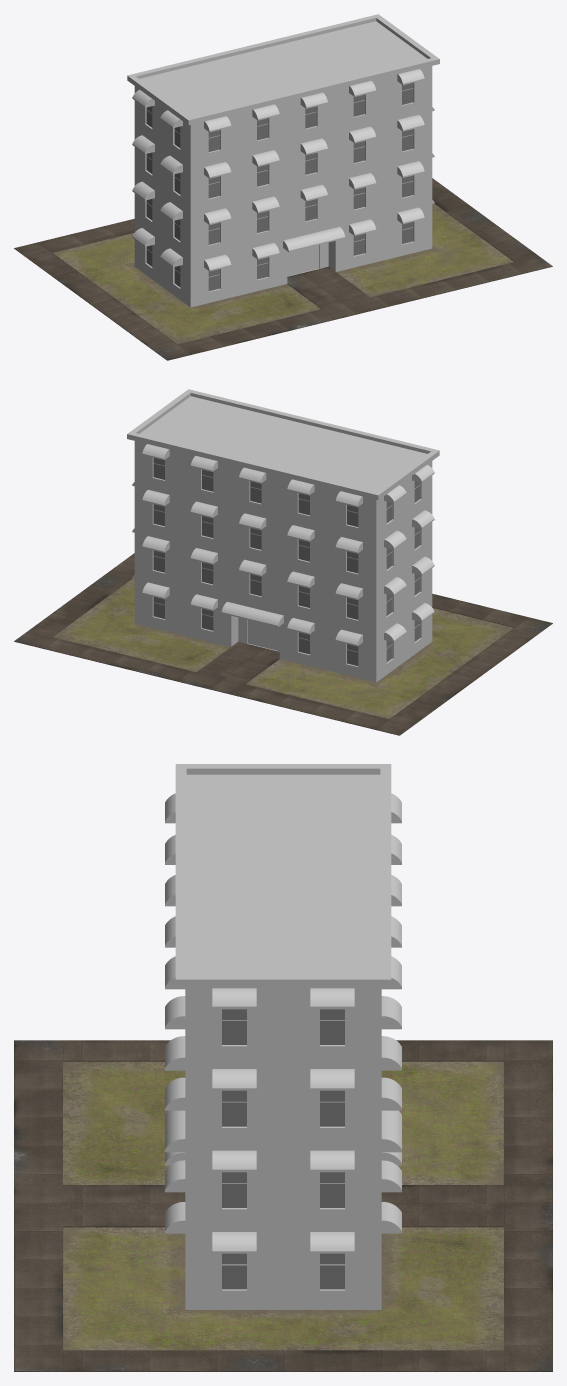
Rendered from build06.dae.
3 renders of one model, top to bottom at view 1: azimuth 30°, elevation 25°; view 2: azimuth 150°, elevation 25°; view 3: azimuth 270°, elevation 25°, orthographic. The views are drawn at different scales.
Visible parts, largest first — view 1: group_93, group_130, group_47, group_111, group_60, group_86; view 2: group_45, group_130, group_47, group_111, group_12, group_38; view 3: group_130, group_47, group_129, Component_1 (×8), group_113, group_126, group_115, group_116, group_119, group_121, group_124, group_127.
Part boxes in pixels (x1,y1,x2,y2): group_93: (190,66,432,307); group_130: (14,178,552,360); group_47: (127,14,439,125); group_111: (134,86,190,307); group_60: (283,226,345,251); group_86: (287,241,335,276); group_45: (134,441,376,682); group_130: (14,553,552,735); group_47: (127,389,439,500); group_111: (376,461,432,682); group_12: (221,601,283,626); group_38: (231,616,279,651); group_130: (14,1040,552,1371); group_47: (175,764,391,988); group_129: (185,988,381,1309); Component_1 (×8): (222,1009,344,1289); group_113: (310,1150,354,1172); group_126: (212,1150,256,1172); group_115: (310,988,354,1009); group_116: (212,988,256,1009); group_119: (212,1232,256,1253); group_121: (310,1232,354,1253); group_124: (212,1069,256,1090); group_127: (310,1069,354,1090).
Bounding box in the file's own units: 960 × 661 × 453.
